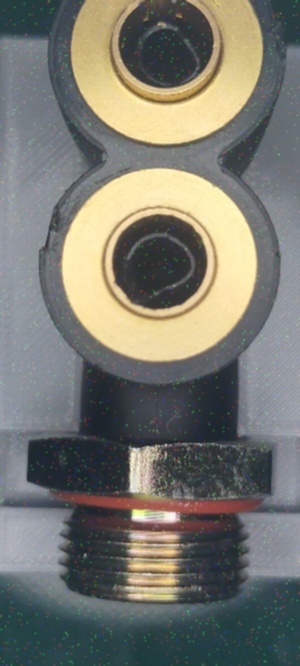bump: (260, 3, 294, 68), (31, 199, 65, 263)
joint line: (152, 387, 163, 422)
off-centered: (122, 17, 209, 92), (120, 226, 201, 304)
